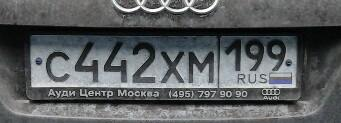license-plateSW: (27, 35, 303, 89)
